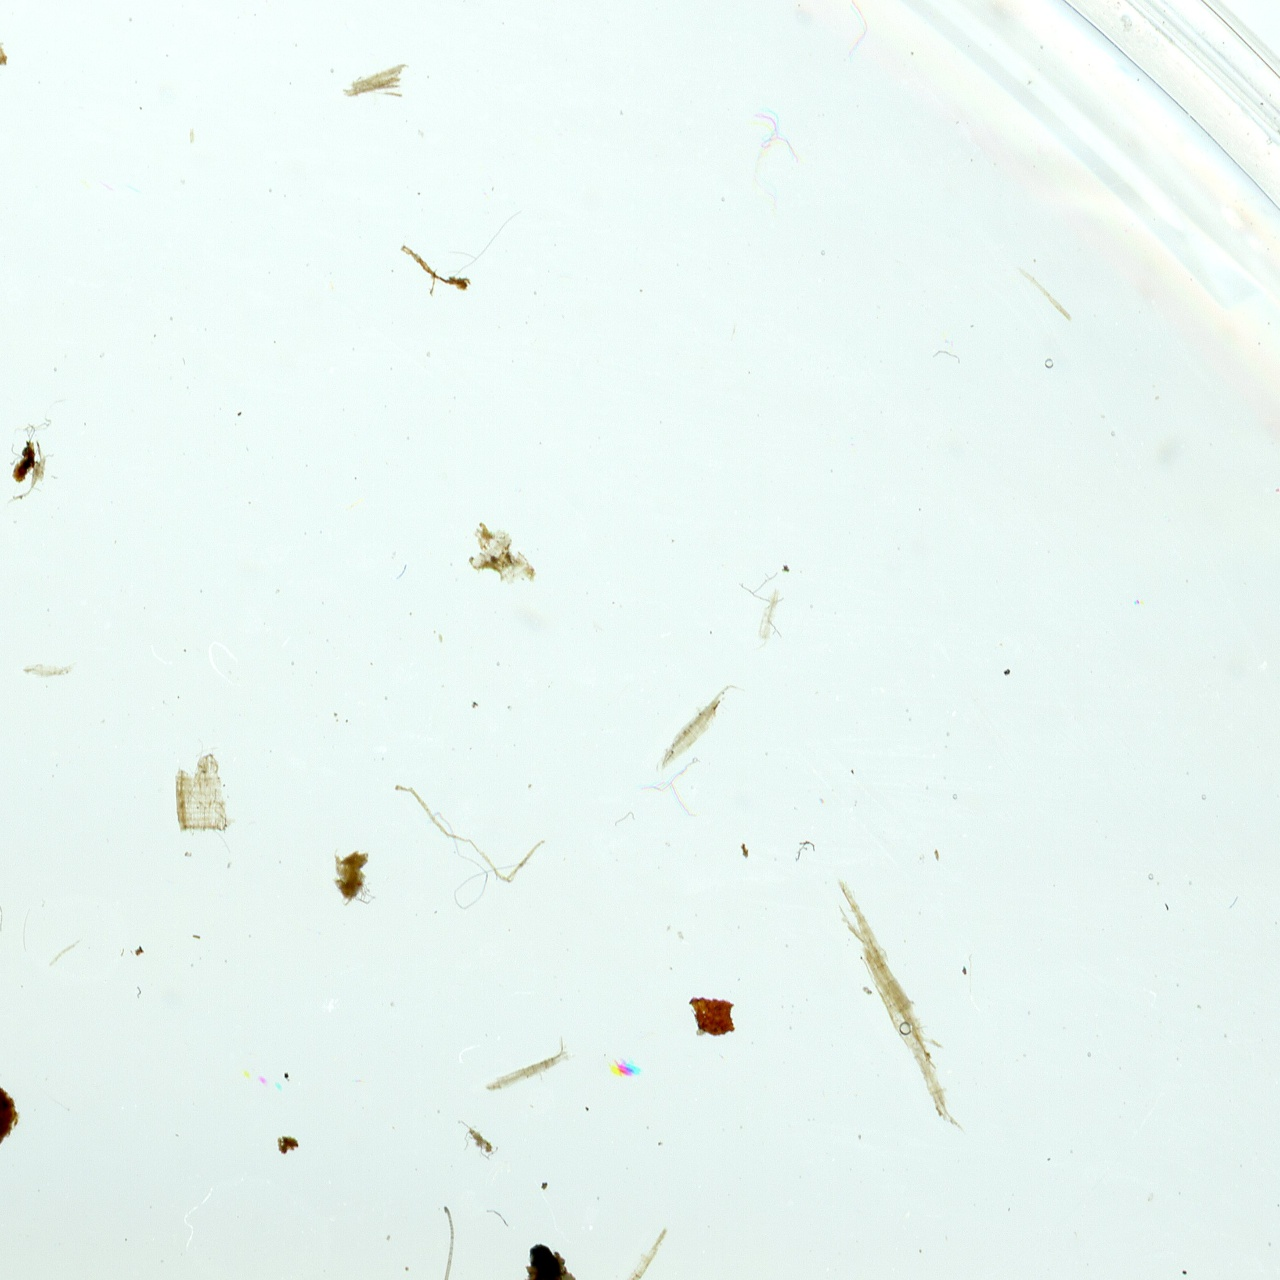arthropod: (213, 1173, 955, 1280)
